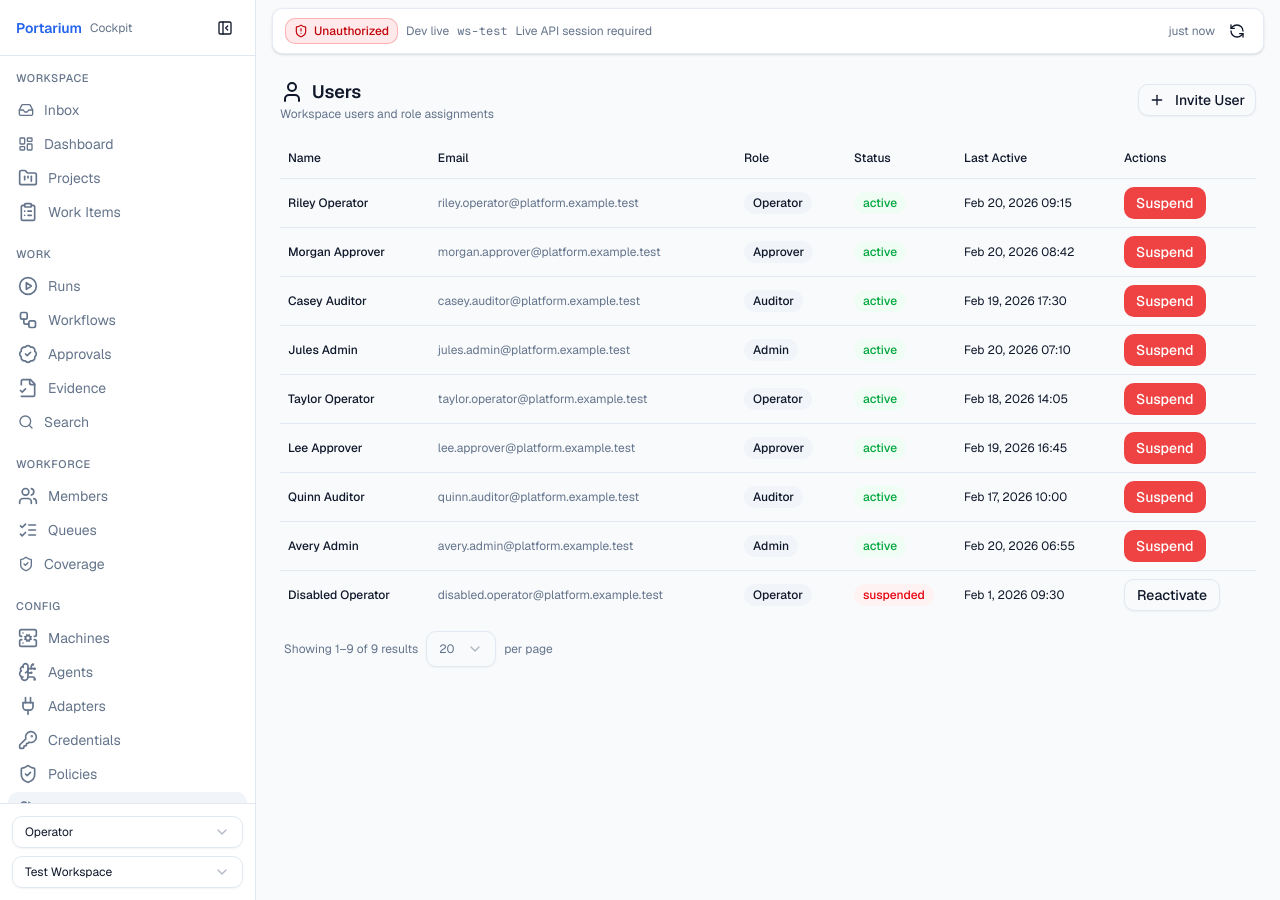
Test case: Users/RBAC management page › submits invite and closes the dialog on success
Click the button "Invite User" at (1197, 100), box [1138,84,1256,116]
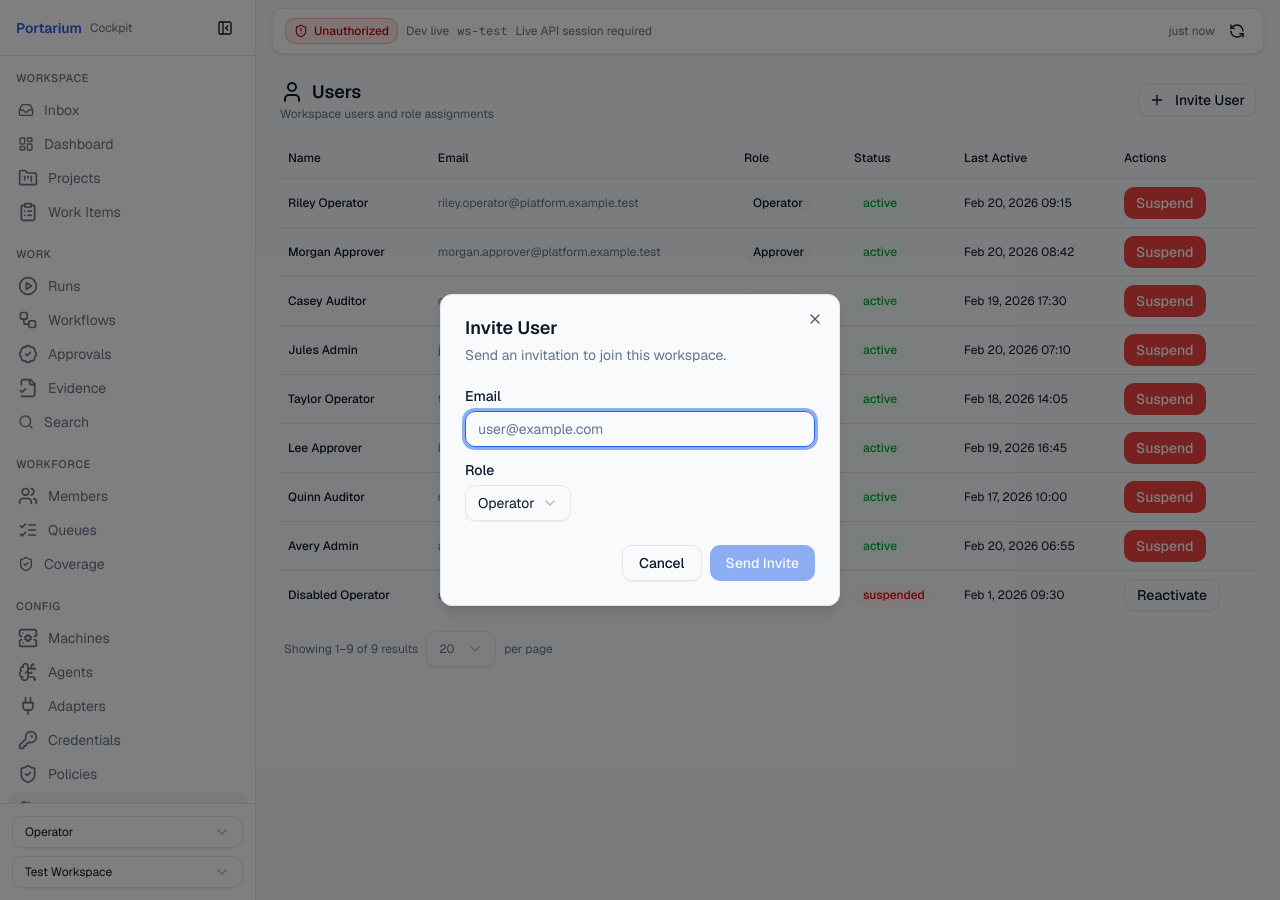
Type "new.user@example.com" into the field labelled "Email" at (640, 429), box [465,411,815,447]
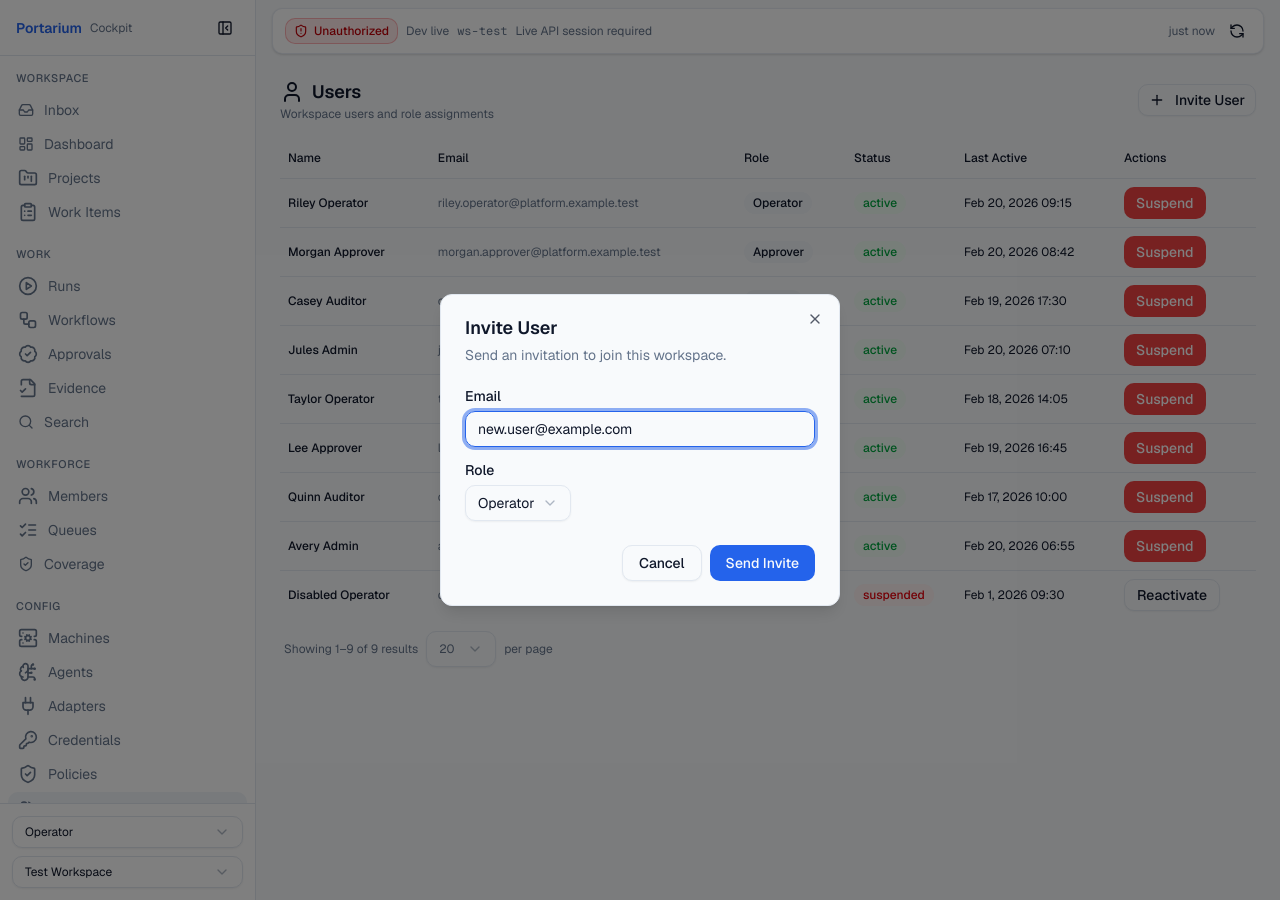
Click the button "Send Invite" at (762, 563), box [710,545,815,581]
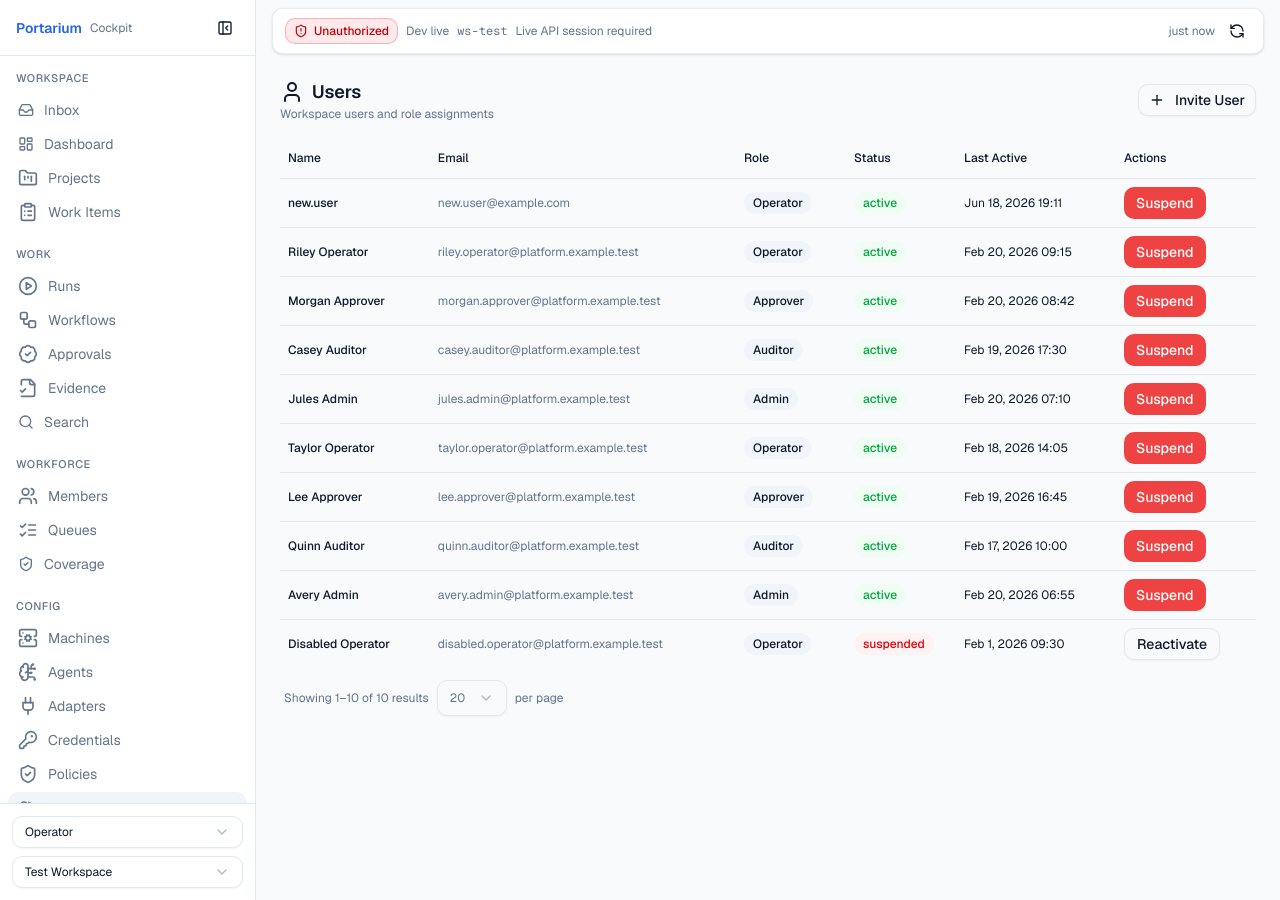
Result: the dialog is gone
